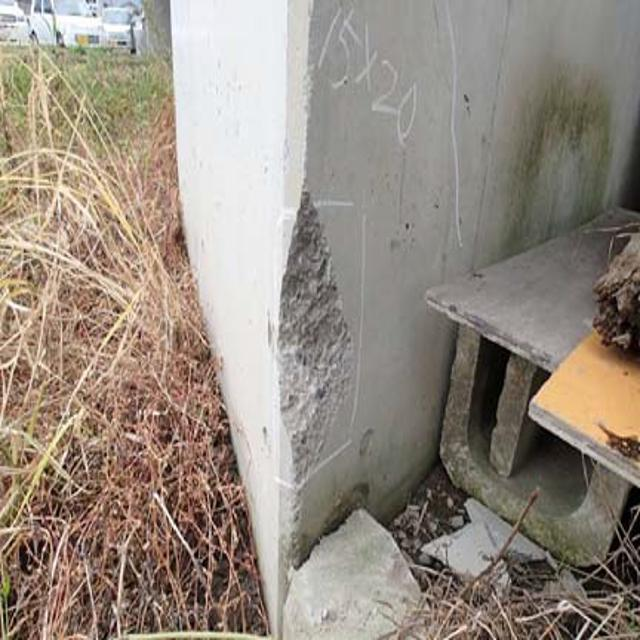spalling: (246, 194, 370, 459)
